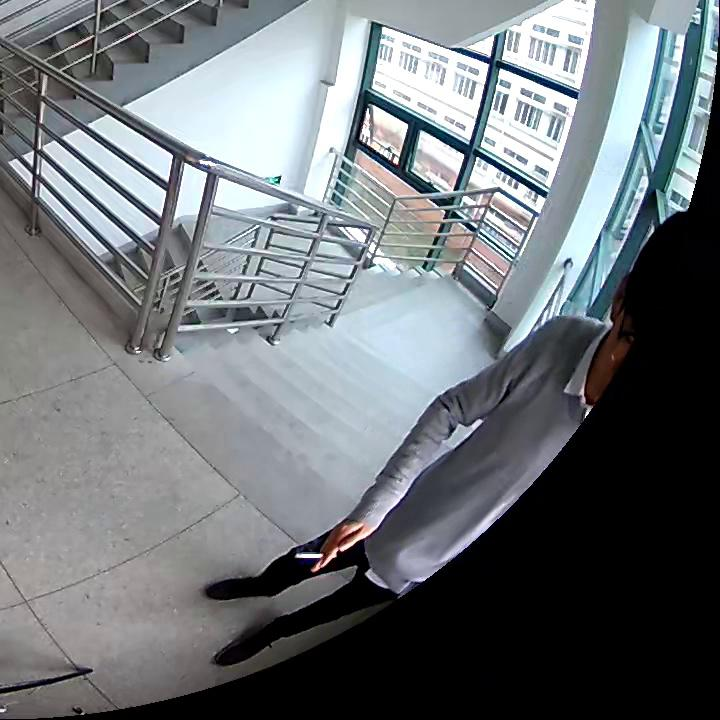handsmoke: (294, 519, 384, 574)
